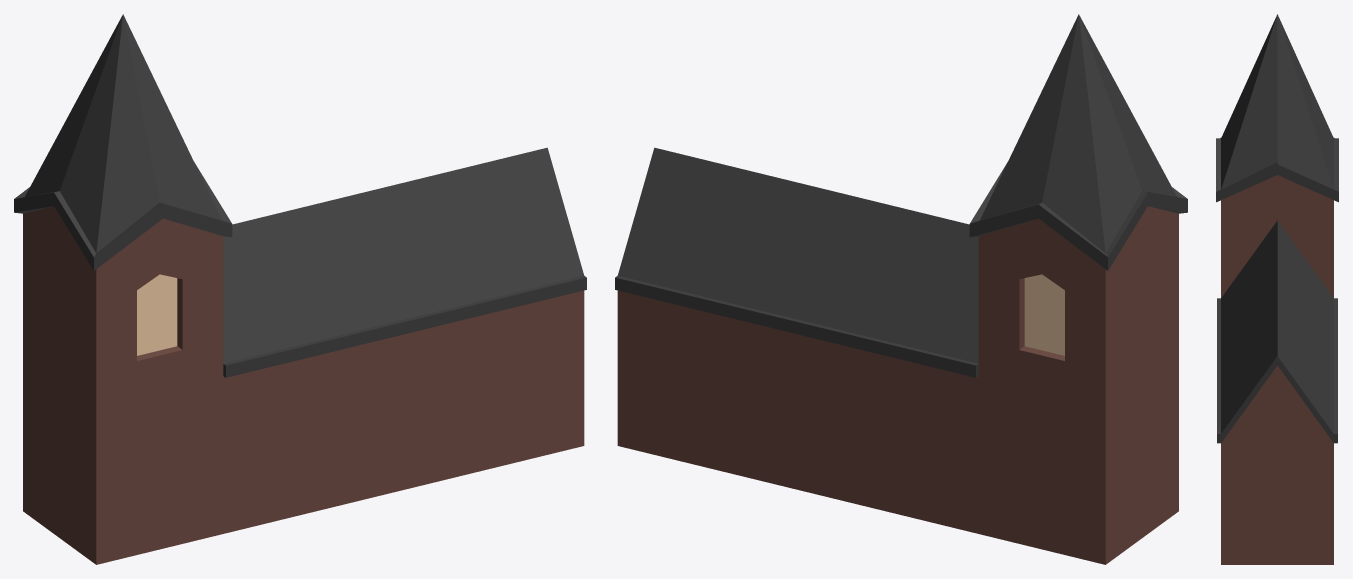
Rendered from church.glb.
3 renders of one model, left to right at view 1: azimuth 30°, elevation 25°; view 2: azimuth 150°, elevation 25°; view 3: azimuth 270°, elevation 25°, orthographic. The views are drawn at different scales.
Parts seen in each view (by area): view 1: Church_lofi; view 2: Church_lofi; view 3: Church_lofi.
Boxes of the visible parts, bbox=[...] form: Church_lofi: bbox=[14, 14, 586, 564]; Church_lofi: bbox=[615, 14, 1187, 564]; Church_lofi: bbox=[1216, 14, 1338, 564].
Size of the model in its own units: 11.84 by 11.66 by 3.32.
